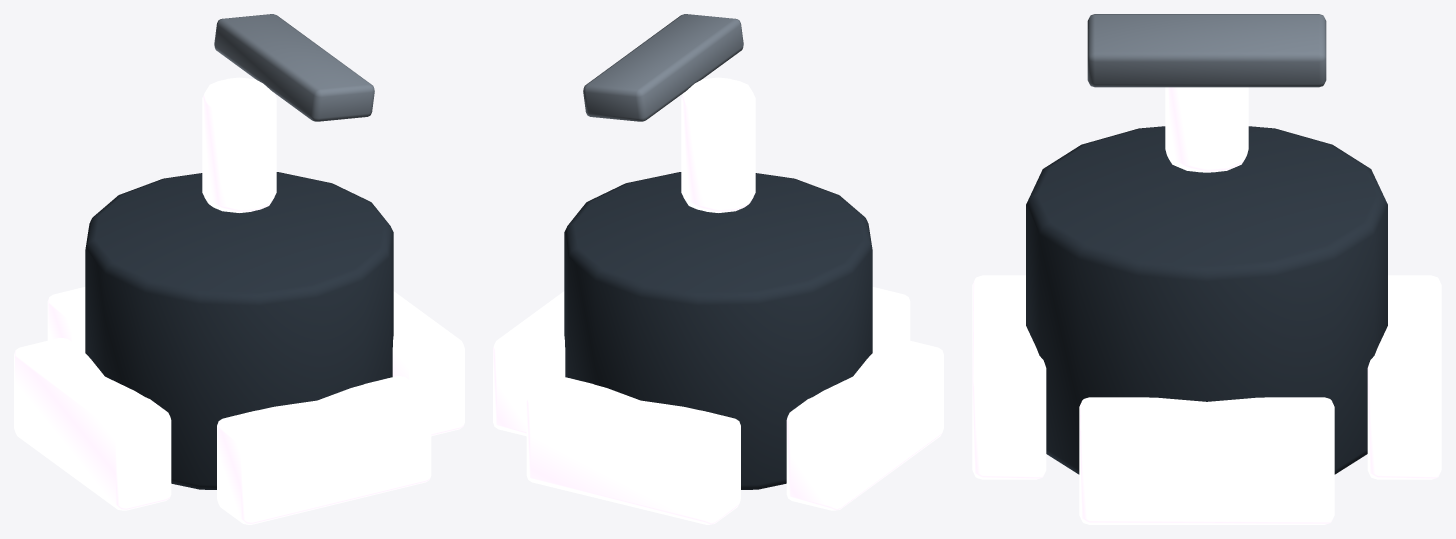
File: Infiltrator_StickyGrenade.fbx
The picture shows the model from 3 angles, left to right: view 1: azimuth 30°, elevation 25°; view 2: azimuth 150°, elevation 25°; view 3: azimuth 270°, elevation 25°; orthographic projection. The views are drawn at different scales.
Parts seen in each view (by area): view 1: Core.002, Clamp_03, Clamp_02, SafetyLever.002, Fuse.002, Clamp_00, Clamp_01; view 2: Core.002, Clamp_01, Clamp_02, SafetyLever.002, Fuse.002, Clamp_00, Clamp_03; view 3: Core.002, Clamp_00, SafetyLever.002, Clamp_01, Clamp_03, Fuse.002.
Part boxes in pixels (x1,y1,x2,y2): Core.002: (85,172,393,489); Clamp_03: (217,376,431,524); Clamp_02: (14,338,171,510); SafetyLever.002: (214,14,374,121); Fuse.002: (202,77,276,212); Clamp_00: (392,291,464,436); Clamp_01: (47,287,85,351); Core.002: (564,172,872,489); Clamp_01: (526,376,740,524); Clamp_02: (786,338,943,510); SafetyLever.002: (583,14,743,121); Fuse.002: (681,77,755,212); Clamp_00: (493,291,565,436); Clamp_03: (872,287,910,351); Core.002: (1026,126,1387,474); Clamp_00: (1079,397,1334,524); SafetyLever.002: (1087,14,1326,87); Clamp_01: (1367,275,1441,479); Clamp_03: (972,275,1046,479); Fuse.002: (1165,87,1248,172).
Size of the model in its own units: 114 by 116 by 114.
